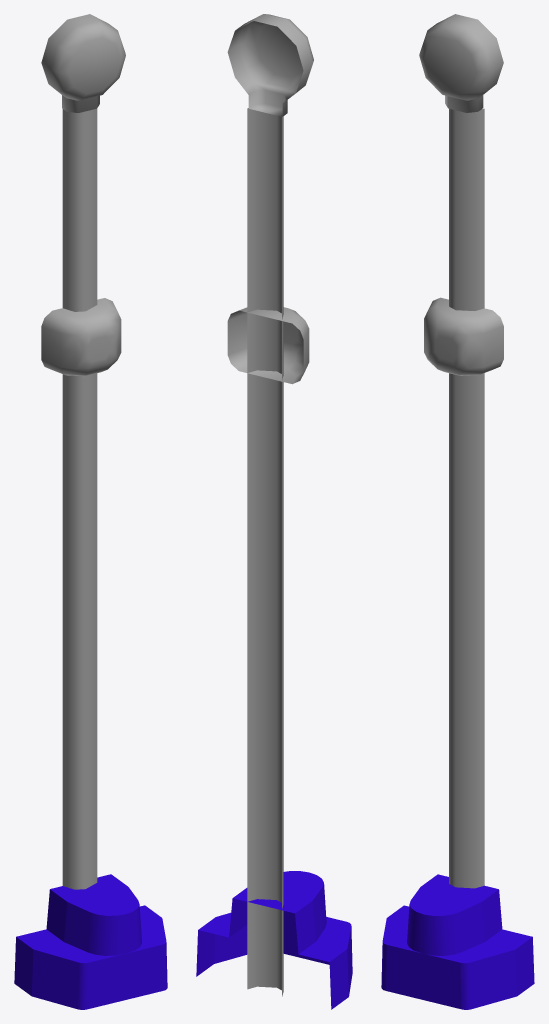
File: end.fbx
3 renders of one model, left to right at view 1: azimuth 30°, elevation 25°; view 2: azimuth 150°, elevation 25°; view 3: azimuth 330°, elevation 25°, orthographic. The views are drawn at different scales.
Visible parts, largest first — view 1: RailingFence_end; view 2: RailingFence_end; view 3: RailingFence_end.
Boxes of the visible parts, left/top/right/bottom form: RailingFence_end: left=14, top=14, right=167, bottom=1009; RailingFence_end: left=196, top=14, right=352, bottom=1009; RailingFence_end: left=381, top=14, right=534, bottom=1009.
Size of the model in its own units: 0.178 by 1.22 by 0.1045.
